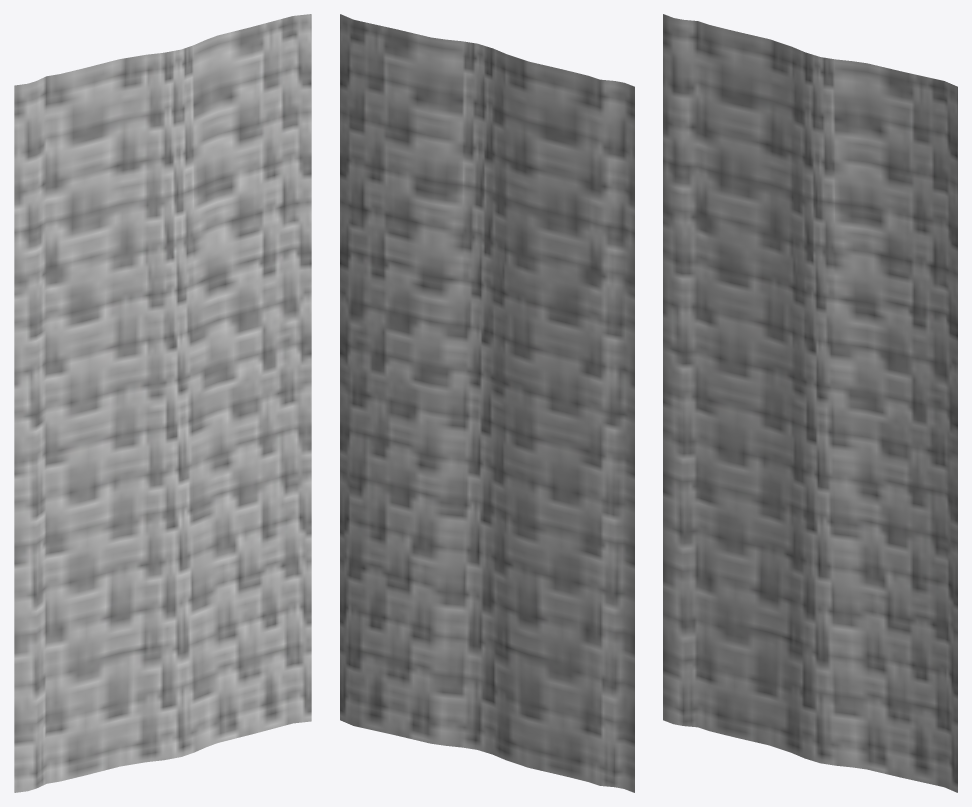
Rendered from curtaina_static.fbx.
3 renders of one model, left to right at view 1: azimuth 30°, elevation 25°; view 2: azimuth 150°, elevation 25°; view 3: azimuth 330°, elevation 25°, orthographic.
Visible parts, largest first — view 1: curtaina_static; view 2: curtaina_static; view 3: curtaina_static.
Part boxes in pixels (x1=…): curtaina_static: x1=14, y1=14, x2=311, y2=792; curtaina_static: x1=340, y1=14, x2=634, y2=792; curtaina_static: x1=663, y1=14, x2=957, y2=792.
Size of the model in its own units: 1.38 by 3.16 by 0.0549.
